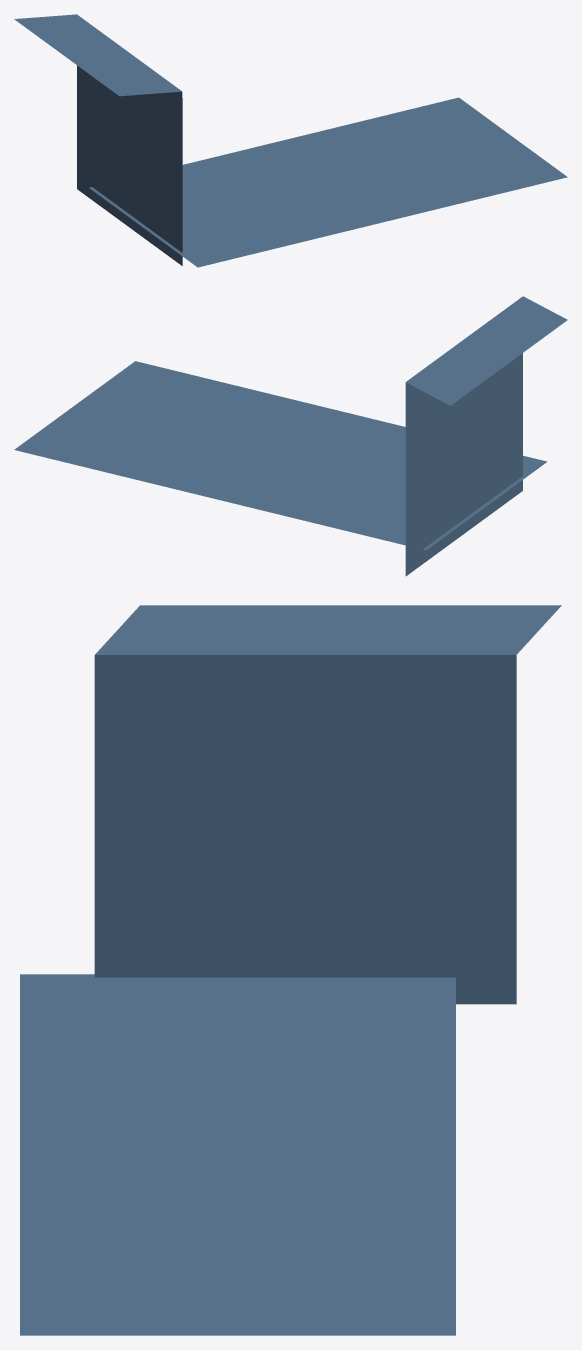
The model's file is Water.fbx.
3 renders of one model, top to bottom at view 1: azimuth 30°, elevation 25°; view 2: azimuth 150°, elevation 25°; view 3: azimuth 270°, elevation 25°, orthographic. The views are drawn at different scales.
Parts seen in each view (by area): view 1: Water; view 2: Water; view 3: Water.
Part boxes in pixels (box(x1,y1,x2,y2)): Water: box(14, 14, 567, 267); Water: box(14, 296, 567, 576); Water: box(20, 605, 561, 1335).
Bounding box in the file's own units: 1357 × 541 × 761.
